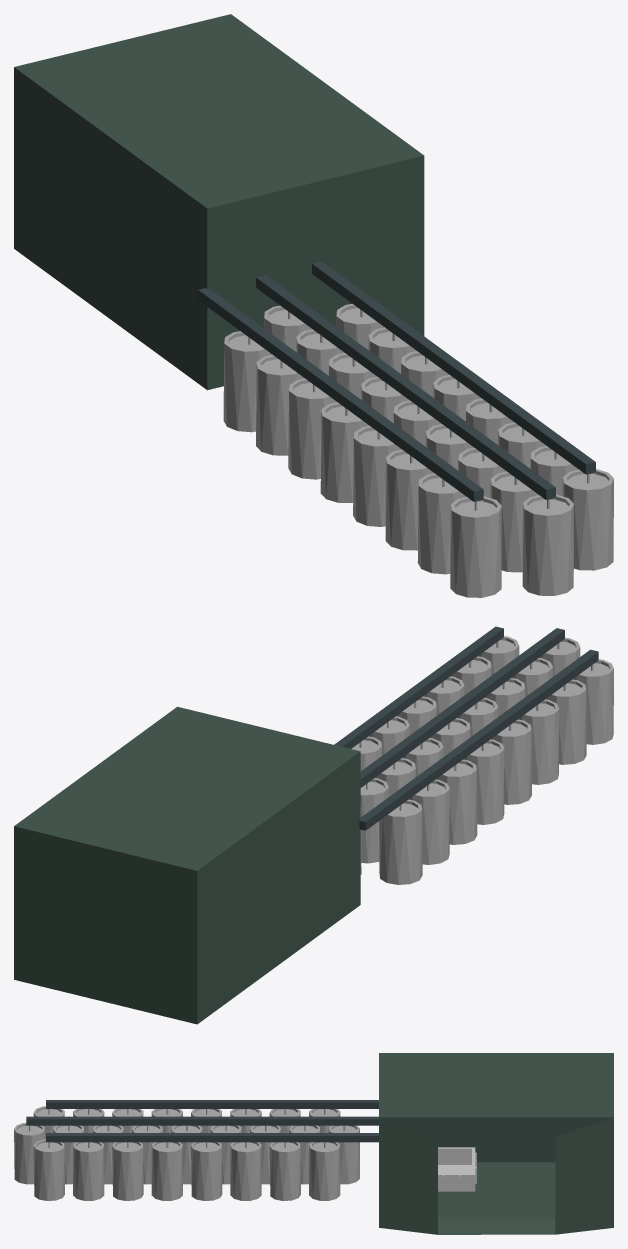
The model's file is factory.obj.
3 renders of one model, top to bottom at view 1: azimuth 30°, elevation 25°; view 2: azimuth 150°, elevation 25°; view 3: azimuth 270°, elevation 25°, orthographic. The views are drawn at different scales.
Visible parts, largest first — view 1: Cube.003_Cube.004, Cylinder.025_Cylinder.074, Cube.002_Cube.003; view 2: Cube.003_Cube.004, Cylinder.025_Cylinder.074, Cube.002_Cube.003; view 3: Cube.003_Cube.004, Cylinder.025_Cylinder.074, Cube.002_Cube.003, Cube_Cube.005.
Part boxes in pixels (bbox=[...]): Cube.003_Cube.004: bbox=[14, 14, 424, 390]; Cylinder.025_Cylinder.074: bbox=[223, 303, 613, 597]; Cube.002_Cube.003: bbox=[198, 261, 595, 501]; Cube.003_Cube.004: bbox=[14, 706, 360, 1024]; Cylinder.025_Cylinder.074: bbox=[351, 636, 613, 884]; Cube.002_Cube.003: bbox=[334, 626, 598, 830]; Cube.003_Cube.004: bbox=[379, 1053, 613, 1234]; Cylinder.025_Cylinder.074: bbox=[14, 1106, 359, 1200]; Cube.002_Cube.003: bbox=[26, 1100, 378, 1142]; Cube_Cube.005: bbox=[438, 1147, 476, 1191].
Bounding box in the file's own units: 29.57 × 19.39 × 95.34.
